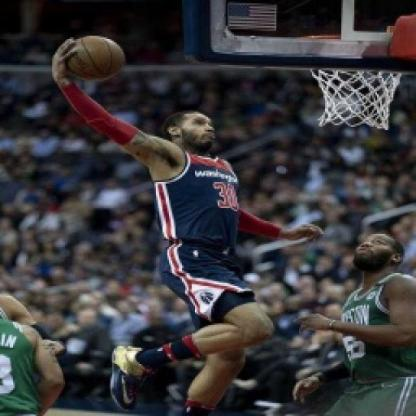basketball: (60, 32, 130, 84)
